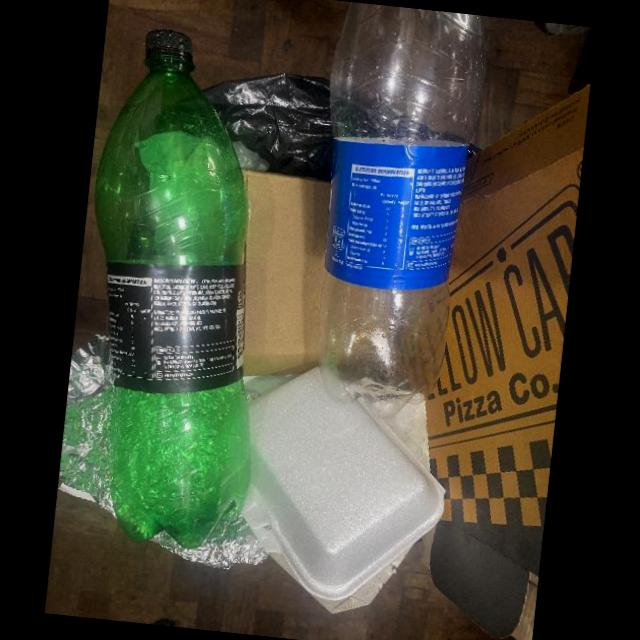carton: (412, 83, 590, 640)
chai_nhua: (94, 28, 251, 548)
chai_nhua_pet: (317, 1, 485, 418)
xop: (241, 365, 445, 600)
